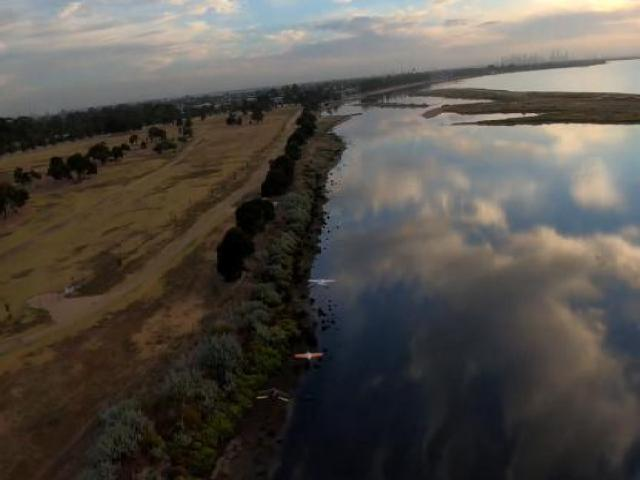uav: (294, 347, 323, 364), (308, 274, 337, 290)
